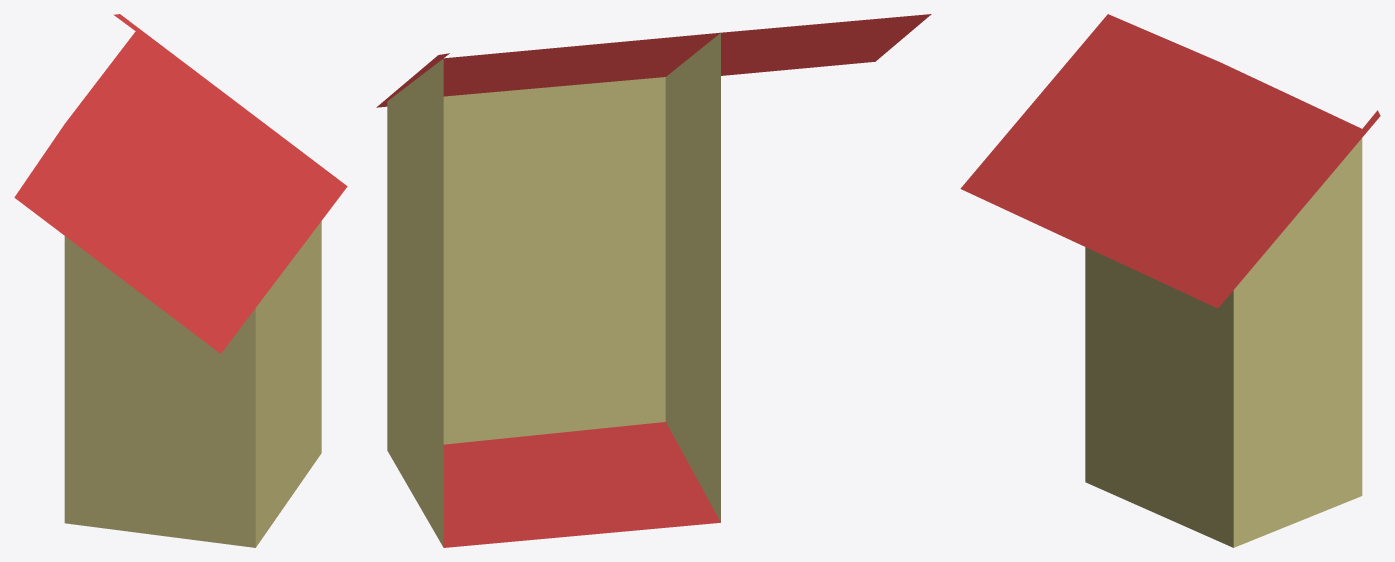
3 views of the same model, side by side, from view 1: azimuth 30°, elevation 25°; view 2: azimuth 150°, elevation 25°; view 3: azimuth 270°, elevation 25° (orthographic). The views are drawn at different scales.
Bounding box in the file's own units: 8.04 × 8.09 × 8.07.
